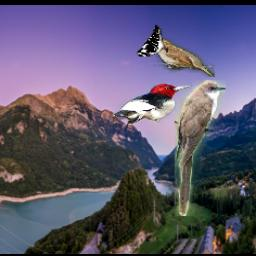Cuckoo: (176, 80, 227, 216)
Sparrow: (148, 38, 216, 77)
Woodpecker: (114, 84, 193, 126), (138, 23, 169, 56)
